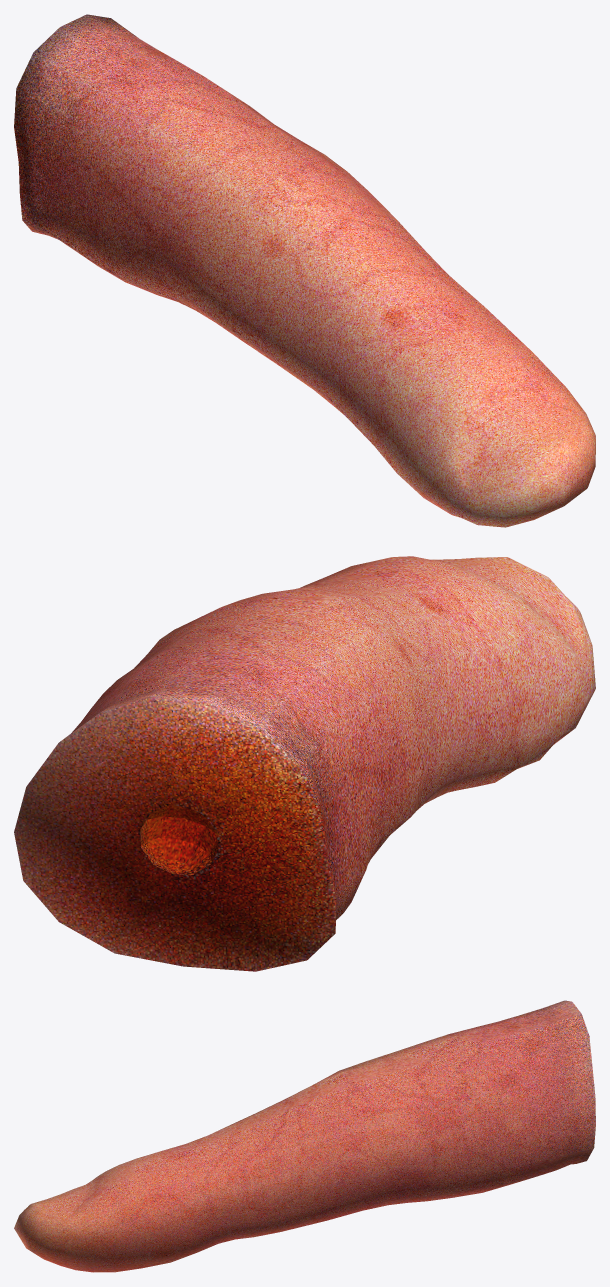
3 views of the same model, one above another, from view 1: azimuth 30°, elevation 25°; view 2: azimuth 150°, elevation 25°; view 3: azimuth 270°, elevation 25° (orthographic). The views are drawn at different scales.
Parts seen in each view (by area): view 1: hand_mesh.002; view 2: hand_mesh.002; view 3: hand_mesh.002.
Part boxes in pixels (box(x1,y1,x2,y2)): hand_mesh.002: box(14, 14, 595, 527); hand_mesh.002: box(14, 556, 595, 971); hand_mesh.002: box(14, 1000, 595, 1272).
Size of the model in its own units: 0.1321 by 0.1321 by 0.3213.
Materials: 1 (1 with a texture image).
